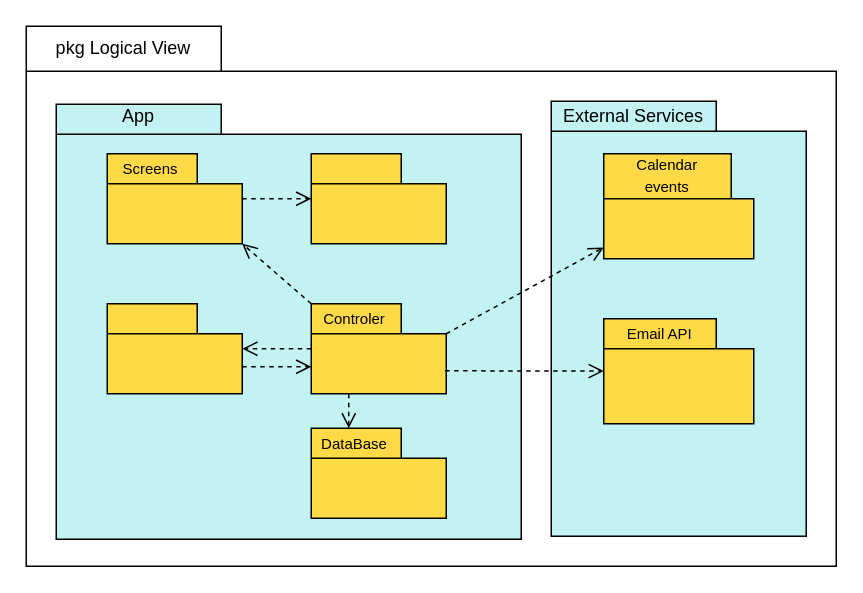
The diagram is 863 pixels wide and 593 high, and some of its shapes have lost their labels. Here are the shapes that lost their labels. From the top down, the centre of each, then its label:
At pixel 378 198: "Widgets".
At pixel 174 348: "Model".
